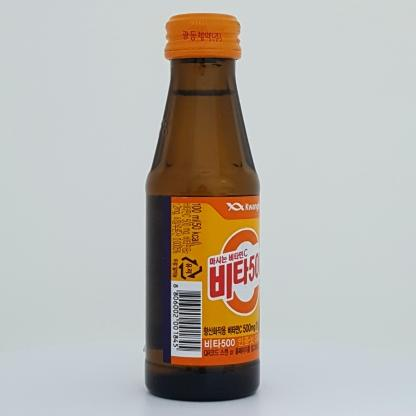-----500---100ML: (143, 12, 261, 402)
